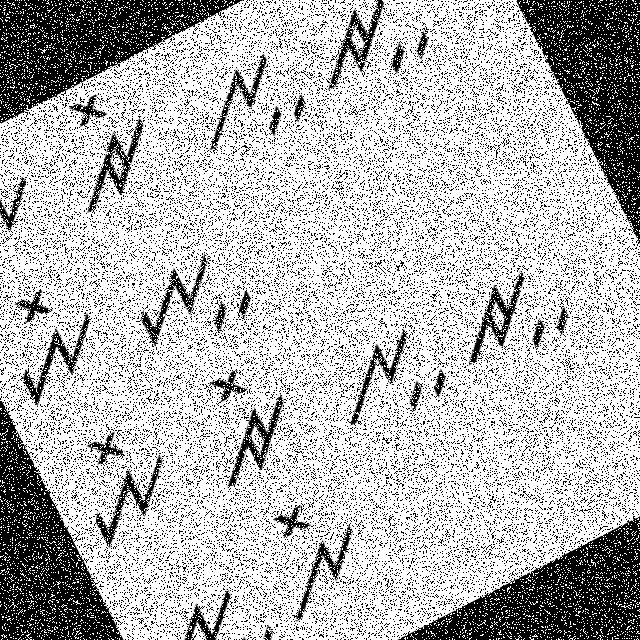lah: (307, 306, 462, 453), (171, 30, 322, 172)
lo: (240, 480, 386, 631), (0, 133, 61, 287)
rah: (424, 242, 583, 390), (293, 0, 446, 107)
ro: (23, 70, 175, 226), (175, 346, 319, 496)
yah: (107, 220, 269, 373), (138, 565, 291, 639)
yo: (44, 406, 197, 562), (0, 266, 122, 417)
